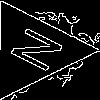N: (8, 25, 75, 79)
